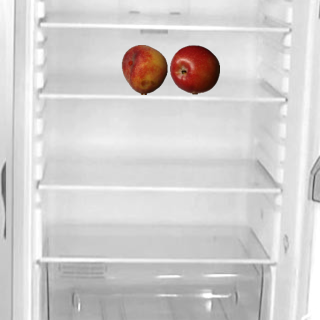Apple Braeburn: (169, 44, 219, 94)
Peach: (119, 44, 169, 94)
